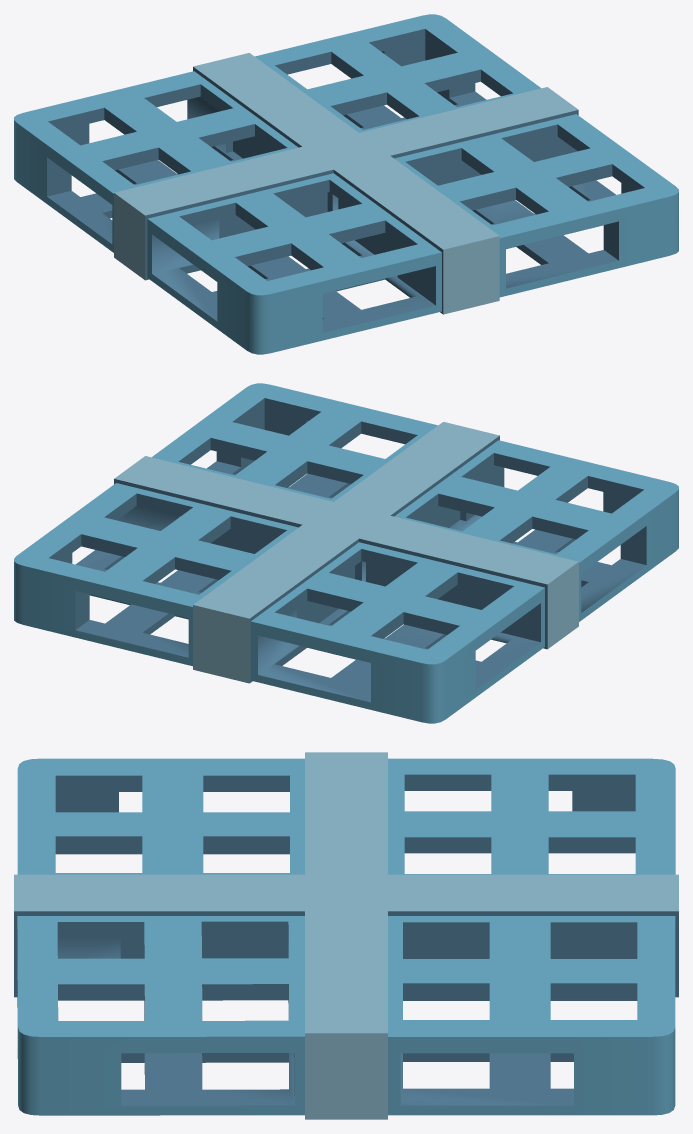
The model's file is Blue_Plastic_Pallet.fbx.
3 views of the same model, one above another, from view 1: azimuth 30°, elevation 25°; view 2: azimuth 150°, elevation 25°; view 3: azimuth 270°, elevation 25° (orthographic). The views are drawn at different scales.
Parts seen in each view (by area): view 1: Blue_Plastic_Pallet; view 2: Blue_Plastic_Pallet; view 3: Blue_Plastic_Pallet.
Part boxes in pixels (bbox=[...]): Blue_Plastic_Pallet: bbox=[14, 14, 678, 354]; Blue_Plastic_Pallet: bbox=[14, 383, 678, 723]; Blue_Plastic_Pallet: bbox=[14, 752, 678, 1119].
Size of the model in its own units: 115 by 16.44 by 115.
